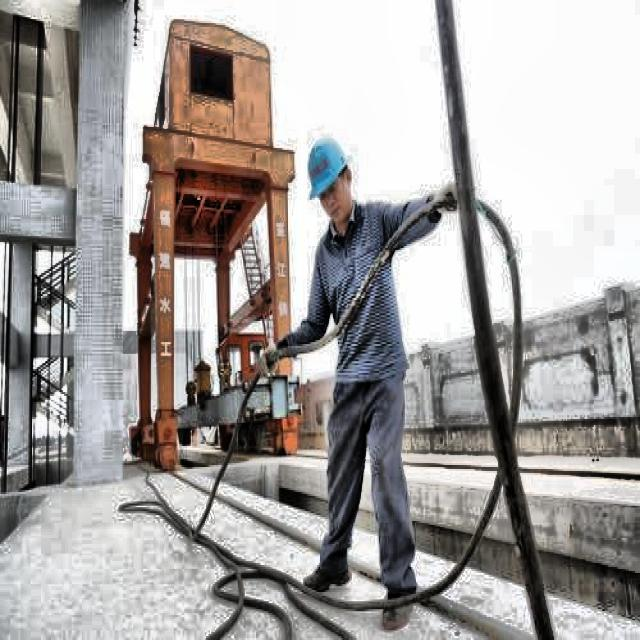helmet: (302, 125, 357, 234)
